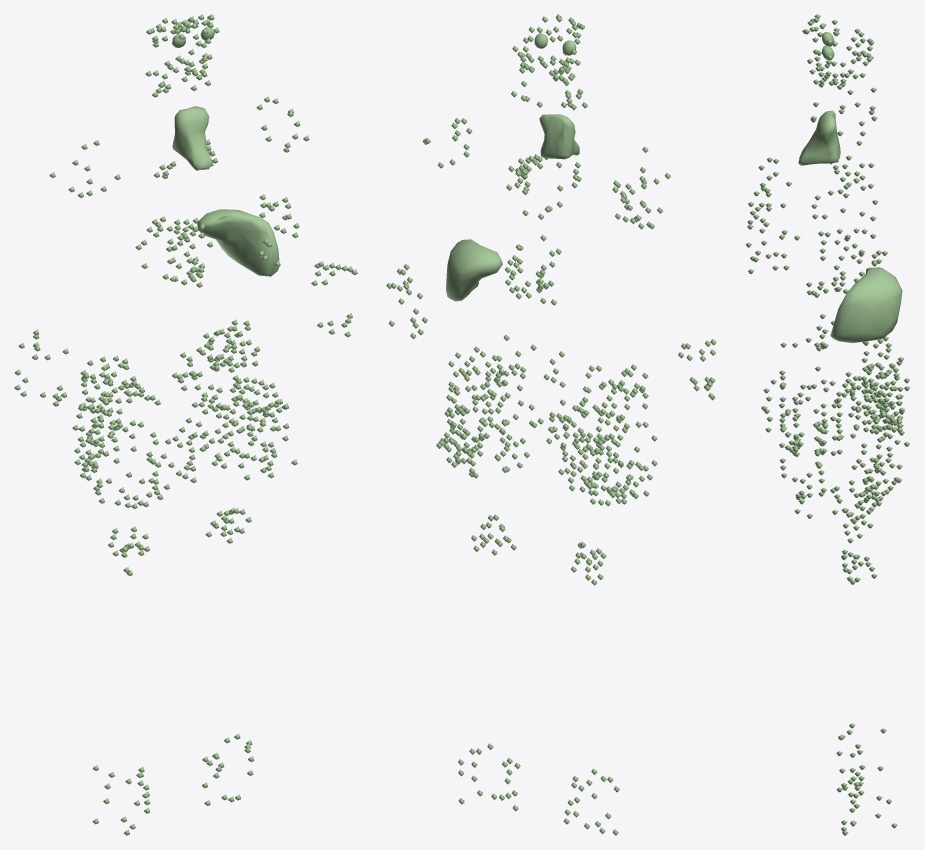
The model's file is pediatric_child_10y_female.lymphatic.LOD2.glb.
The picture shows the model from 3 angles, left to right: view 1: azimuth 30°, elevation 25°; view 2: azimuth 150°, elevation 25°; view 3: azimuth 270°, elevation 25°; orthographic projection. The views are drawn at different scales.
Parts seen in each view (by area): view 1: PEDIATRIC.CHILD_10Y.FEMALE.LYMPHATIC.LYMPHATIC_NODES_TRUNK, PEDIATRIC.CHILD_10Y.FEMALE.LYMPHATIC.SPLEEN, PEDIATRIC.CHILD_10Y.FEMALE.LYMPHATIC.THYMUS, PEDIATRIC.CHILD_10Y.FEMALE.LYMPHATIC.LYMPHATIC_NODES_ET, PEDIATRIC.CHILD_10Y.FEMALE.LYMPHATIC.LYMPHATIC_NODES_THORACI, PEDIATRIC.CHILD_10Y.FEMALE.LYMPHATIC.LYMPHATIC_NODES_ARMS, PEDIATRIC.CHILD_10Y.FEMALE.LYMPHATIC.LYMPHATIC_NODES_LEGS; view 2: PEDIATRIC.CHILD_10Y.FEMALE.LYMPHATIC.LYMPHATIC_NODES_TRUNK, PEDIATRIC.CHILD_10Y.FEMALE.LYMPHATIC.SPLEEN, PEDIATRIC.CHILD_10Y.FEMALE.LYMPHATIC.THYMUS, PEDIATRIC.CHILD_10Y.FEMALE.LYMPHATIC.LYMPHATIC_NODES_THORACI, PEDIATRIC.CHILD_10Y.FEMALE.LYMPHATIC.LYMPHATIC_NODES_ET, PEDIATRIC.CHILD_10Y.FEMALE.LYMPHATIC.LYMPHATIC_NODES_LEGS, PEDIATRIC.CHILD_10Y.FEMALE.LYMPHATIC.LYMPHATIC_NODES_ARMS; view 3: PEDIATRIC.CHILD_10Y.FEMALE.LYMPHATIC.LYMPHATIC_NODES_TRUNK, PEDIATRIC.CHILD_10Y.FEMALE.LYMPHATIC.SPLEEN, PEDIATRIC.CHILD_10Y.FEMALE.LYMPHATIC.THYMUS, PEDIATRIC.CHILD_10Y.FEMALE.LYMPHATIC.LYMPHATIC_NODES_ET, PEDIATRIC.CHILD_10Y.FEMALE.LYMPHATIC.LYMPHATIC_NODES_ARMS, PEDIATRIC.CHILD_10Y.FEMALE.LYMPHATIC.LYMPHATIC_NODES_THORACI, PEDIATRIC.CHILD_10Y.FEMALE.LYMPHATIC.LYMPHATIC_NODES_LEGS, PEDIATRIC.CHILD_10Y.FEMALE.LYMPHATIC.LYMPHATIC_NODES_HEAD.
Part boxes in pixels (x1,y1,x2,y2): PEDIATRIC.CHILD_10Y.FEMALE.LYMPHATIC.LYMPHATIC_NODES_TRUNK: (49,96,309,576); PEDIATRIC.CHILD_10Y.FEMALE.LYMPHATIC.SPLEEN: (197,209,279,276); PEDIATRIC.CHILD_10Y.FEMALE.LYMPHATIC.THYMUS: (172,106,212,170); PEDIATRIC.CHILD_10Y.FEMALE.LYMPHATIC.LYMPHATIC_NODES_ET: (146,14,219,76); PEDIATRIC.CHILD_10Y.FEMALE.LYMPHATIC.LYMPHATIC_NODES_THORACI: (141,139,217,287); PEDIATRIC.CHILD_10Y.FEMALE.LYMPHATIC.LYMPHATIC_NODES_ARMS: (14,261,357,406); PEDIATRIC.CHILD_10Y.FEMALE.LYMPHATIC.LYMPHATIC_NODES_LEGS: (92,733,253,835); PEDIATRIC.CHILD_10Y.FEMALE.LYMPHATIC.LYMPHATIC_NODES_TRUNK: (422,118,670,585); PEDIATRIC.CHILD_10Y.FEMALE.LYMPHATIC.SPLEEN: (446,239,502,301); PEDIATRIC.CHILD_10Y.FEMALE.LYMPHATIC.THYMUS: (539,114,579,159); PEDIATRIC.CHILD_10Y.FEMALE.LYMPHATIC.LYMPHATIC_NODES_THORACI: (505,154,581,305); PEDIATRIC.CHILD_10Y.FEMALE.LYMPHATIC.LYMPHATIC_NODES_ET: (512,14,584,81); PEDIATRIC.CHILD_10Y.FEMALE.LYMPHATIC.LYMPHATIC_NODES_LEGS: (458,743,619,835); PEDIATRIC.CHILD_10Y.FEMALE.LYMPHATIC.LYMPHATIC_NODES_ARMS: (386,264,716,400); PEDIATRIC.CHILD_10Y.FEMALE.LYMPHATIC.LYMPHATIC_NODES_TRUNK: (745,80,910,584); PEDIATRIC.CHILD_10Y.FEMALE.LYMPHATIC.SPLEEN: (830,267,902,343); PEDIATRIC.CHILD_10Y.FEMALE.LYMPHATIC.THYMUS: (798,110,840,165); PEDIATRIC.CHILD_10Y.FEMALE.LYMPHATIC.LYMPHATIC_NODES_ET: (802,14,874,85); PEDIATRIC.CHILD_10Y.FEMALE.LYMPHATIC.LYMPHATIC_NODES_ARMS: (806,231,858,441); PEDIATRIC.CHILD_10Y.FEMALE.LYMPHATIC.LYMPHATIC_NODES_THORACI: (823,155,887,293); PEDIATRIC.CHILD_10Y.FEMALE.LYMPHATIC.LYMPHATIC_NODES_LEGS: (836,723,897,835); PEDIATRIC.CHILD_10Y.FEMALE.LYMPHATIC.LYMPHATIC_NODES_HEAD: (813,62,876,114).
Bounding box in the file's own units: 0.3954 × 0.9157 × 0.1722.
